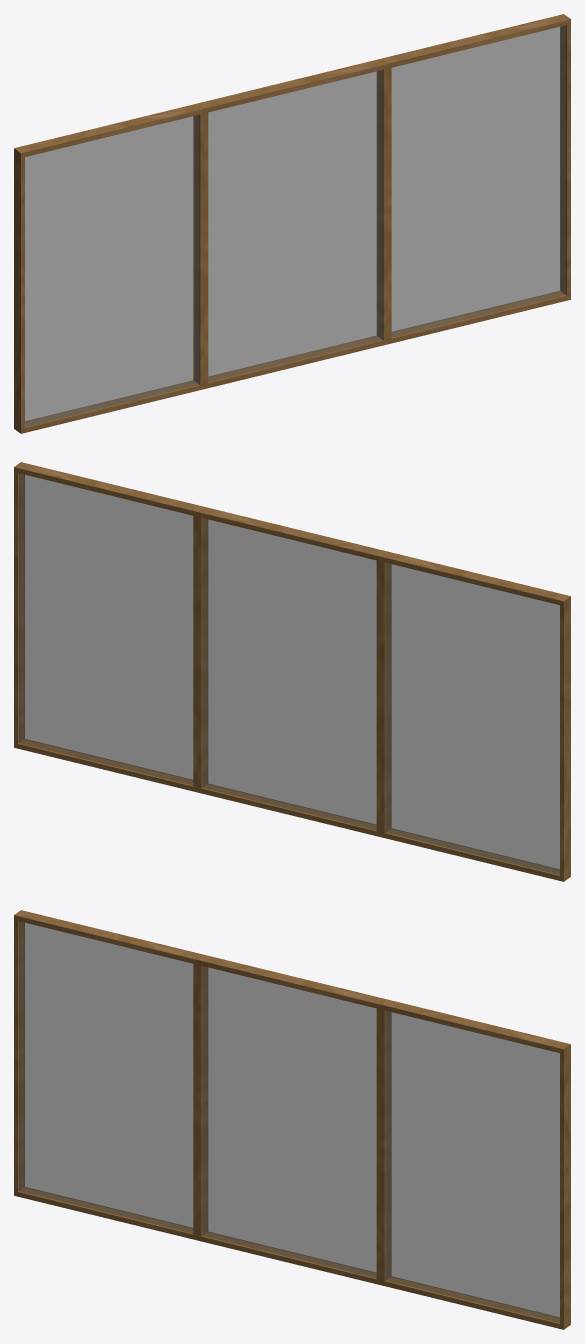
File: SM_Prop_Partition.fbx
The picture shows the model from 3 angles, top to bottom: view 1: azimuth 30°, elevation 25°; view 2: azimuth 150°, elevation 25°; view 3: azimuth 330°, elevation 25°; orthographic projection.
Parts seen in each view (by area): view 1: SM_Prop_Partition; view 2: SM_Prop_Partition; view 3: SM_Prop_Partition.
Boxes of the visible parts, bbox=[...] form: SM_Prop_Partition: bbox=[14, 14, 570, 433]; SM_Prop_Partition: bbox=[14, 462, 570, 881]; SM_Prop_Partition: bbox=[14, 910, 570, 1329].
Bounding box in the file's own units: 8.58 × 4.18 × 0.19.
